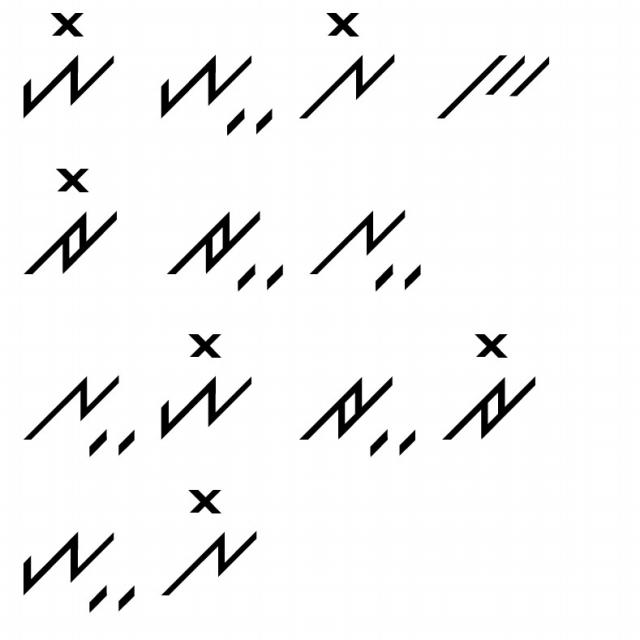lah: (15, 357, 141, 466), (306, 194, 428, 298)
lo: (294, 2, 399, 129), (160, 478, 264, 600)
rah: (160, 200, 286, 300), (286, 367, 418, 459)
ro: (439, 324, 550, 446), (15, 160, 125, 281)
yah: (148, 38, 276, 148), (9, 514, 142, 618)
yo: (10, 2, 117, 124), (147, 327, 256, 442)
